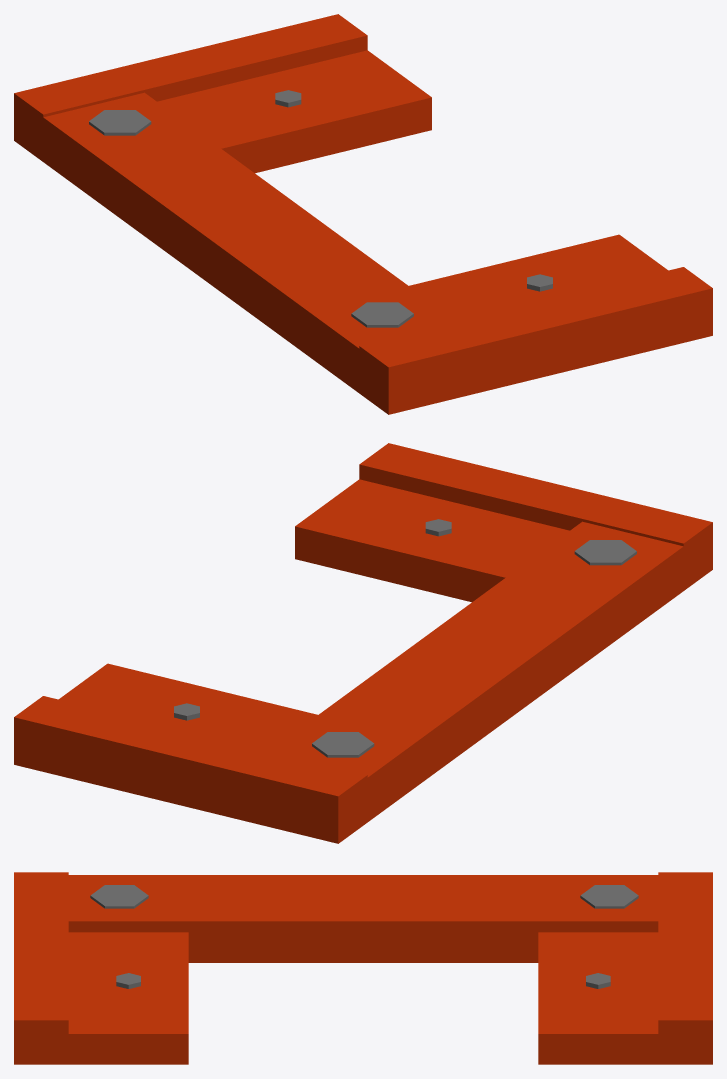
The model's file is Prop_Industrial_Beams_Brace_Half_No_Back_05.FBX.
3 renders of one model, top to bottom at view 1: azimuth 30°, elevation 25°; view 2: azimuth 150°, elevation 25°; view 3: azimuth 270°, elevation 25°, orthographic. The views are drawn at different scales.
Parts seen in each view (by area): view 1: Prop_Industrial_Beams_Brace_Half_No_Back_05; view 2: Prop_Industrial_Beams_Brace_Half_No_Back_05; view 3: Prop_Industrial_Beams_Brace_Half_No_Back_05.
Part boxes in pixels (box(x1,y1,x2,y2)): Prop_Industrial_Beams_Brace_Half_No_Back_05: box(14, 14, 712, 414); Prop_Industrial_Beams_Brace_Half_No_Back_05: box(14, 443, 712, 843); Prop_Industrial_Beams_Brace_Half_No_Back_05: box(14, 872, 712, 1064).
Bounding box in the file's own units: 1000 × 140 × 2000.
